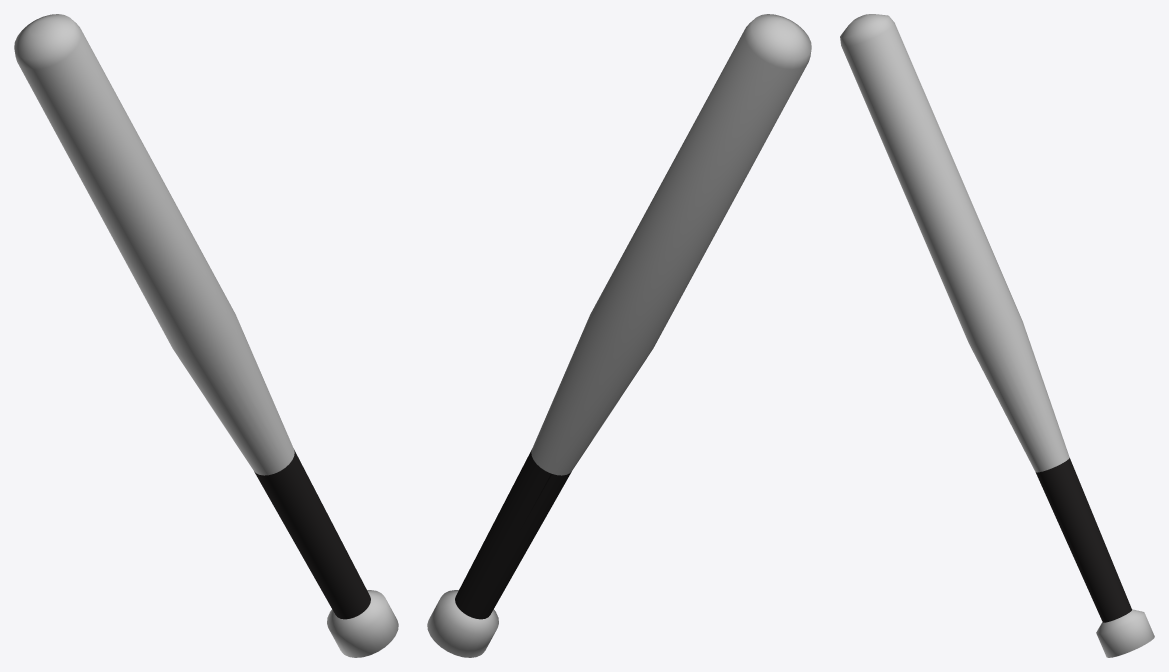
The model's file is bat.glb.
3 views of the same model, side by side, from view 1: azimuth 30°, elevation 25°; view 2: azimuth 150°, elevation 25°; view 3: azimuth 330°, elevation 25° (orthographic). The views are drawn at different scales.
Parts seen in each view (by area): view 1: BBat_LowPoly; view 2: BBat_LowPoly; view 3: BBat_LowPoly.
Part boxes in pixels (bbox=[...]): BBat_LowPoly: bbox=[14, 14, 398, 657]; BBat_LowPoly: bbox=[427, 14, 811, 657]; BBat_LowPoly: bbox=[840, 14, 1154, 657].
Size of the model in its own units: 0.4395 by 0.7898 by 0.0728.
Materials: 1 (1 with a texture image).
